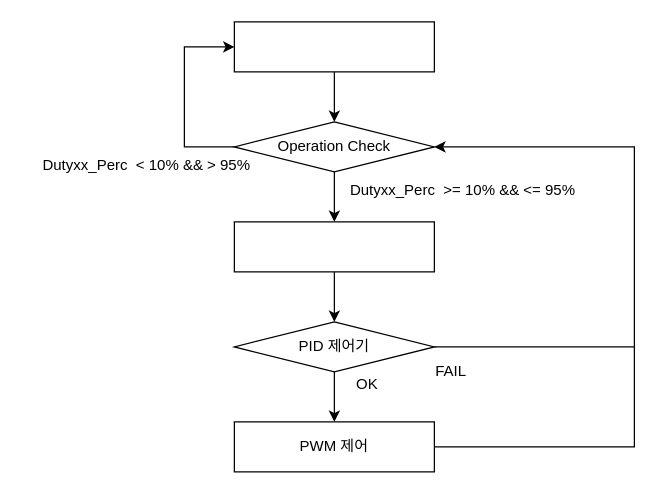
Some shapes in this 666 by 494 pixel diagram are drawn without their labels. The shapes that lost their labels are listed below. From the top down, each one's centre as x and y in pixels, then its label:
At [333,46]: "작동 로직 진입".
At [333,246]: "Target 전력 산출".
